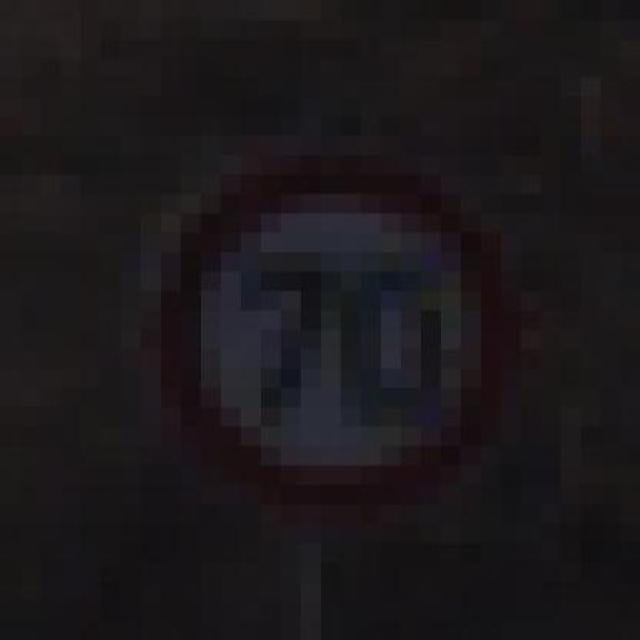forb_speed_over_70: (164, 166, 502, 502)
